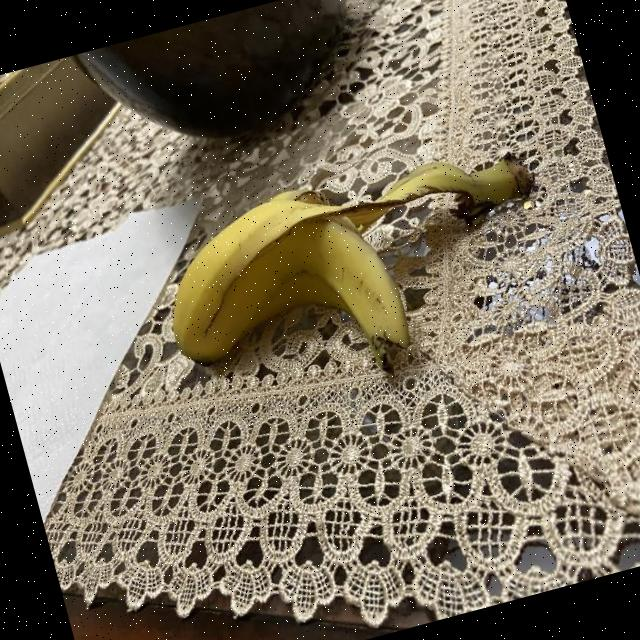banana-peel: (143, 126, 571, 420)
